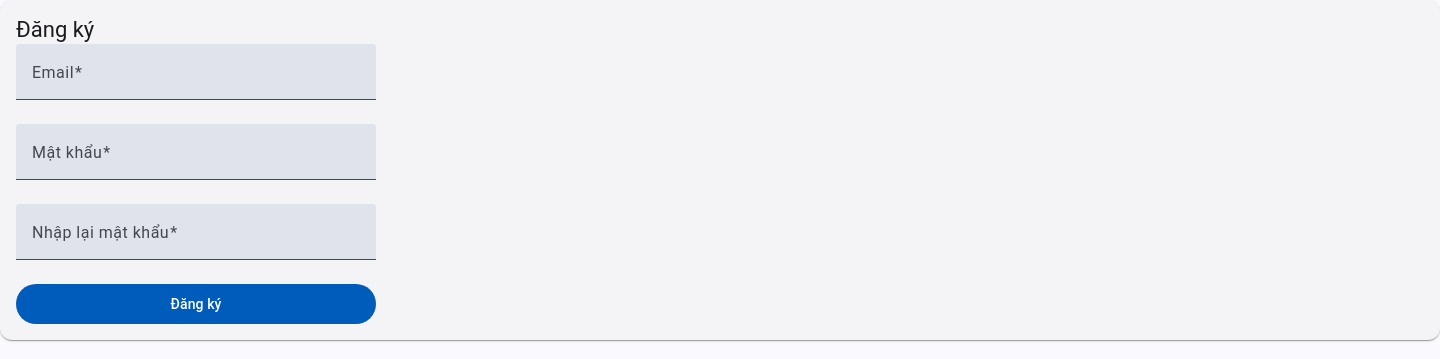
RegisterComponent (KT-07) › 201: thông báo thành công và đường tới Đăng nhập
The width and height of the screenshot is (1440, 359).
Type "a@b.vn" into the field labelled "Email" at x=196, y=80, box [32,68,360,92]
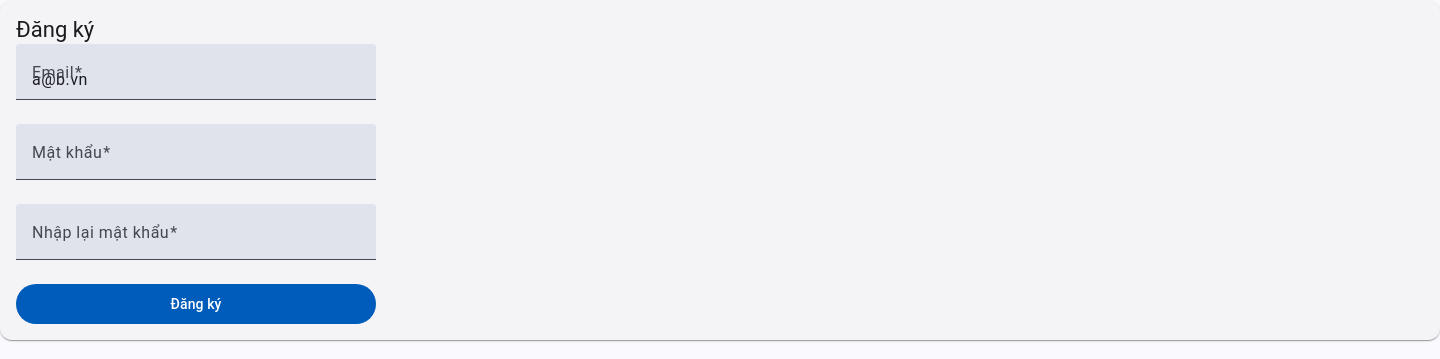
Type "Passw0rd" into the password field labelled "Mật khẩu" at x=196, y=160, box [32,148,360,172]
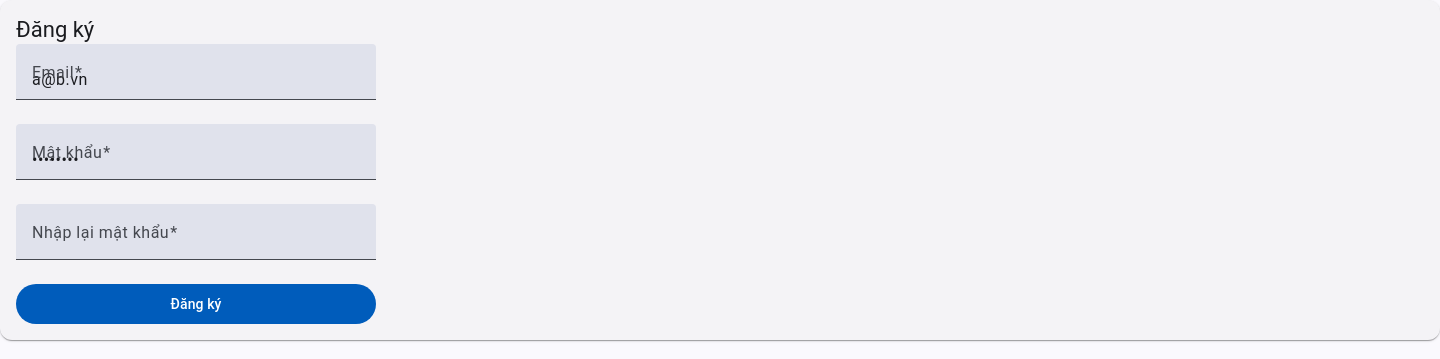
Type "Passw0rd" into the password field labelled "Nhập lại mật khẩu" at x=196, y=240, box [32,228,360,252]
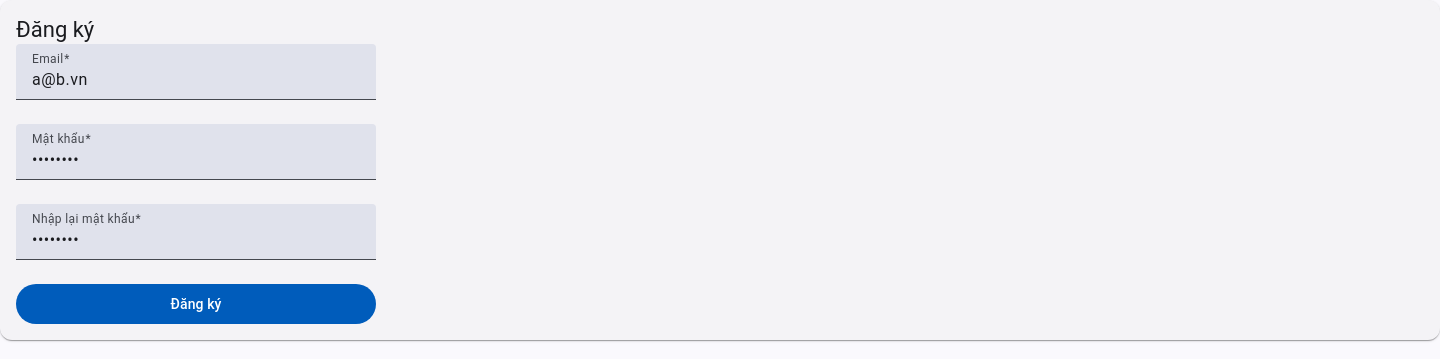
Submit the form, box [16,44,376,324]
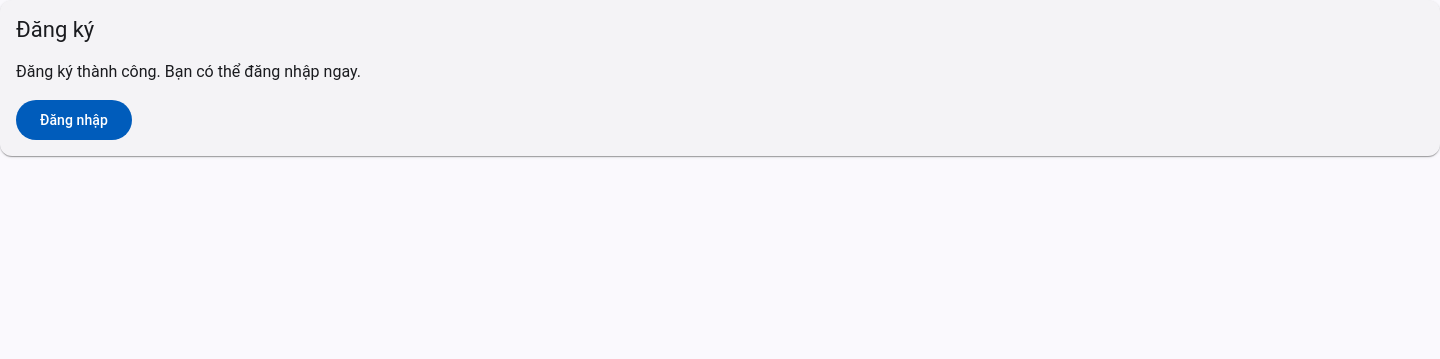
Check: the link to "/login" is shown, box [16,100,132,140]
